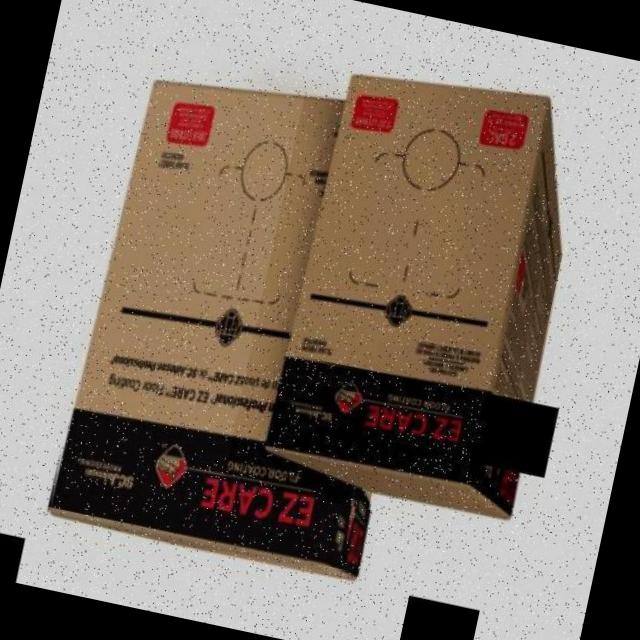box: (44, 58, 457, 592), (223, 16, 618, 542)
